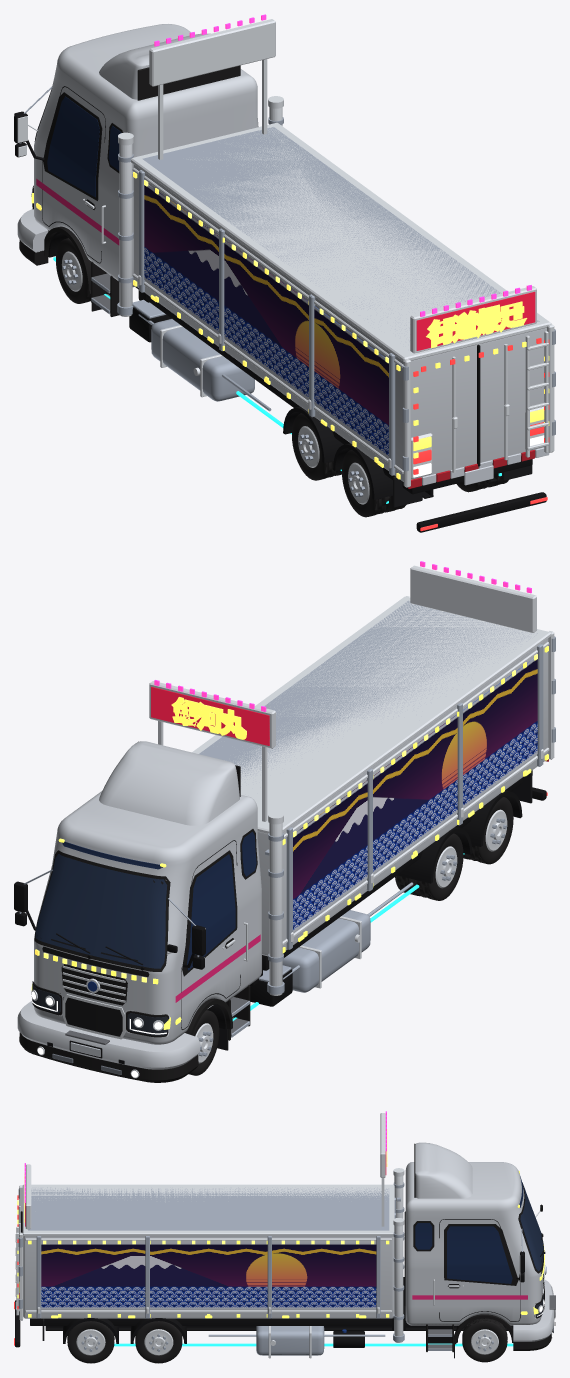
The model's file is dekotora_truck_base_alta.glb.
The picture shows the model from 3 angles, top to bottom: view 1: azimuth 30°, elevation 25°; view 2: azimuth 150°, elevation 25°; view 3: azimuth 270°, elevation 25°; orthographic projection. The views are drawn at different scales.
Visible parts, largest first — view 1: truck_chrome, truck_paint_white_panel, truck_steel, truck_mural, truck_plastic_black, truck_plastic_trim, truck_glass, truck_lamp_amber, wheel_r_L_1.5_1.06, wheel_r_L_3.0_1.06, truck_andon_panel, wheel_f_L (+4 smaller); view 2: truck_chrome, truck_paint_white_panel, truck_steel, truck_mural, truck_glass_wind, truck_plastic_trim, truck_plastic_black, truck_glass, truck_lamp_amber, truck_andon_panel, wheel_r_L_3.0_1.06, wheel_r_L_1.5_1.06 (+6 smaller); view 3: truck_paint_white_panel, truck_mural, truck_steel, truck_chrome, truck_plastic_black, truck_glass, truck_plastic_trim, wheel_f_R, wheel_r_R_3.0_1.06, wheel_r_R_1.5_1.06, truck_glass_wind, truck_lamp_amber (+3 smaller).
Part boxes in pixels (box(x1,y1,x2,y2)): truck_chrome: box(17, 19, 554, 487); truck_paint_white_panel: box(17, 24, 546, 481); truck_steel: box(19, 86, 555, 475); truck_mural: box(144, 184, 388, 458); truck_plastic_black: box(14, 86, 546, 532); truck_plastic_trim: box(19, 65, 240, 316); truck_glass: box(47, 96, 121, 197); truck_lamp_amber: box(31, 172, 549, 479); wheel_r_L_1.5_1.06: box(342, 449, 390, 517); wheel_r_L_3.0_1.06: box(292, 413, 338, 480); truck_andon_panel: box(416, 291, 535, 350); wheel_f_L: box(56, 238, 90, 303); truck_chrome: box(27, 565, 554, 1078); truck_paint_white_panel: box(17, 638, 548, 1069); truck_steel: box(19, 600, 555, 1037); truck_mural: box(293, 658, 537, 932); truck_glass_wind: box(35, 854, 167, 968); truck_plastic_trim: box(19, 741, 257, 1082); truck_plastic_black: box(14, 770, 546, 1064); truck_glass: box(62, 831, 256, 970); truck_lamp_amber: box(31, 646, 548, 1029); truck_andon_panel: box(151, 686, 269, 745); wheel_r_L_3.0_1.06: box(414, 833, 463, 900); wheel_r_L_1.5_1.06: box(467, 797, 513, 864); truck_paint_white_panel: box(23, 1142, 554, 1341); truck_mural: box(41, 1242, 376, 1309); truck_steel: box(18, 1182, 522, 1355); truck_chrome: box(15, 1113, 552, 1358); truck_plastic_black: box(15, 1204, 555, 1347); truck_glass: box(415, 1176, 523, 1283); truck_plastic_trim: box(413, 1143, 552, 1352); wheel_f_R: box(462, 1318, 507, 1362); wheel_r_R_3.0_1.06: box(135, 1321, 182, 1363); wheel_r_R_1.5_1.06: box(67, 1321, 114, 1363); truck_glass_wind: box(520, 1183, 543, 1271); truck_lamp_amber: box(17, 1129, 544, 1318).
Bounding box in the file's own units: 3.29 × 5.14 × 11.97.
26 materials, 9 textured.
